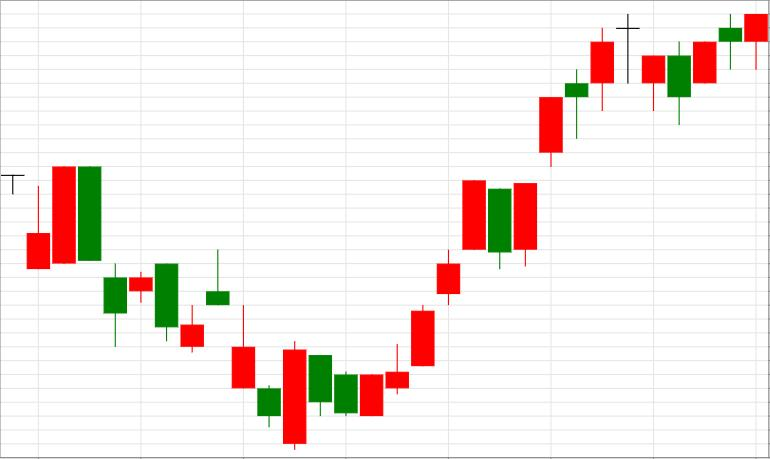bullish_engulfing_rise: (206, 248, 307, 449)
